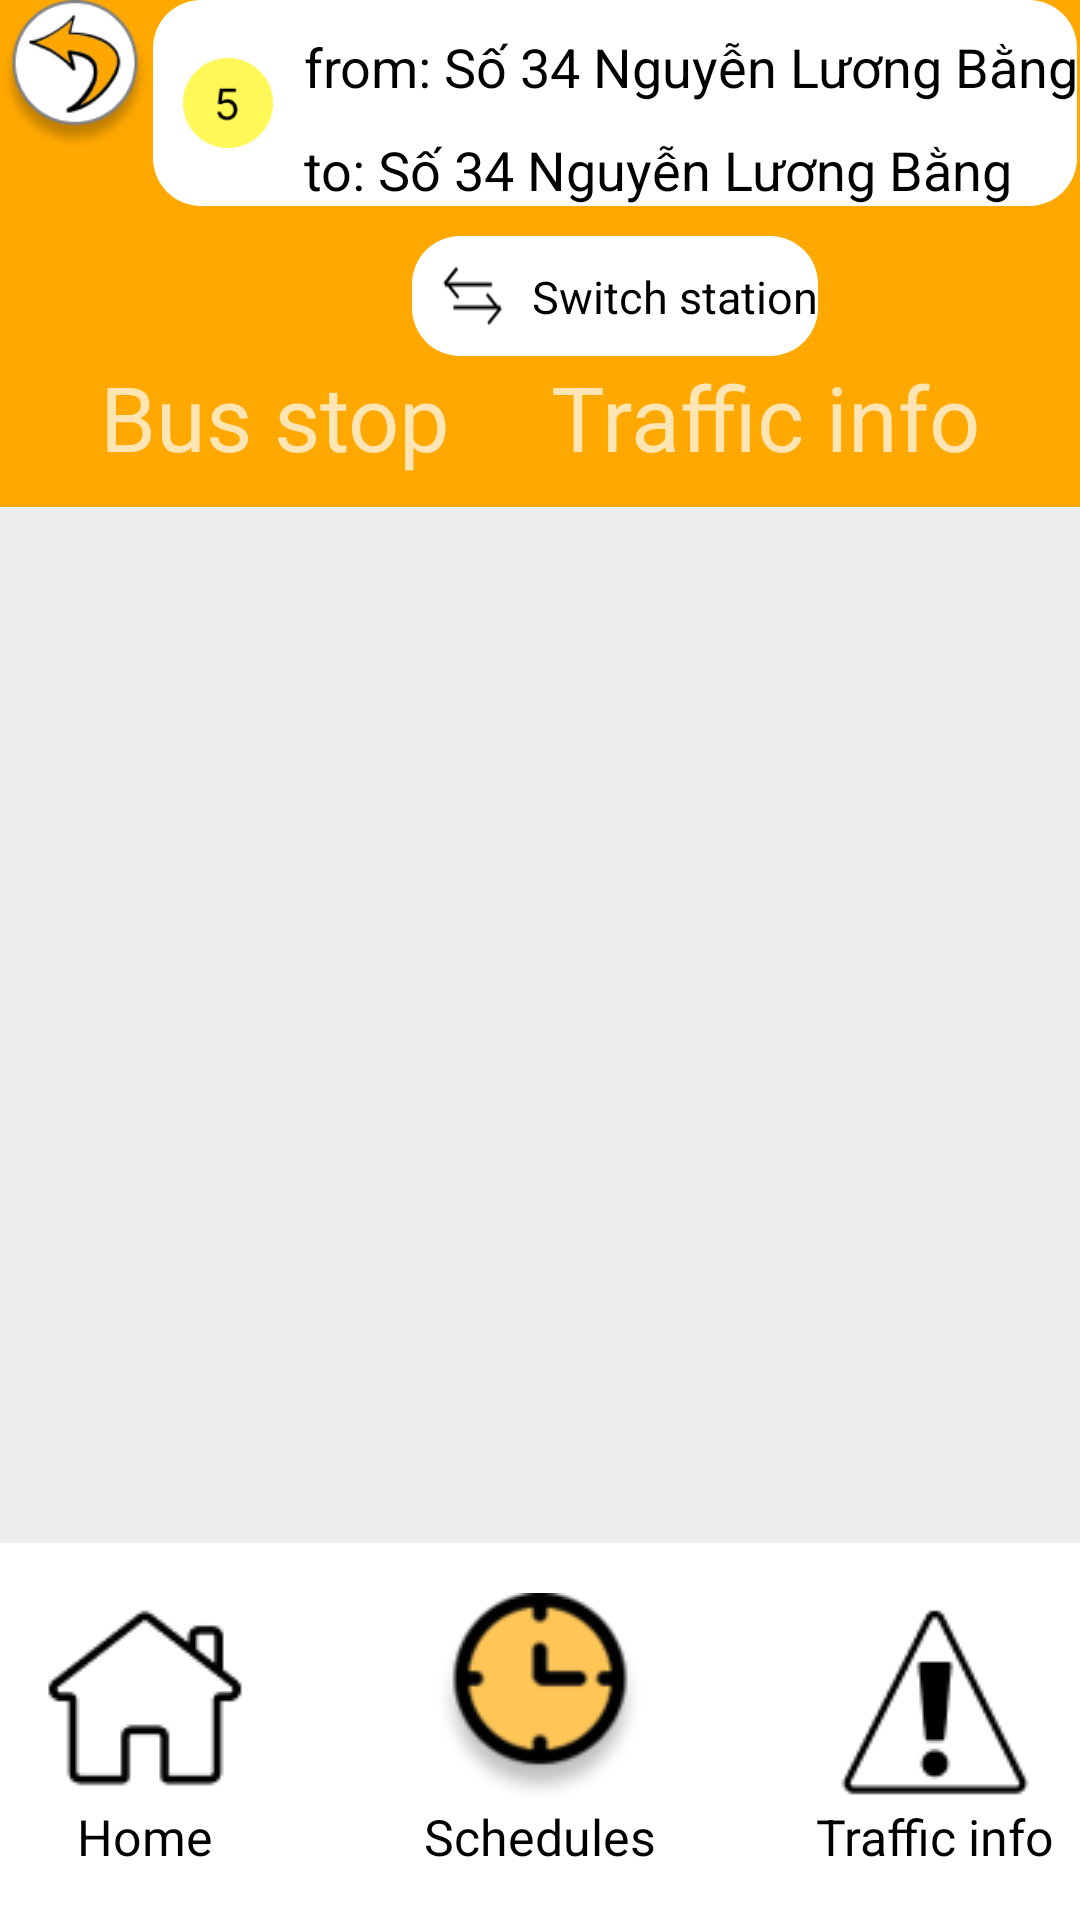

Icons on this 1080 x 1920 Android screen, each with its box as (x1, y1, x2, y2):
change: (443, 266, 502, 326)
returnbutton: (11, 0, 139, 139)
